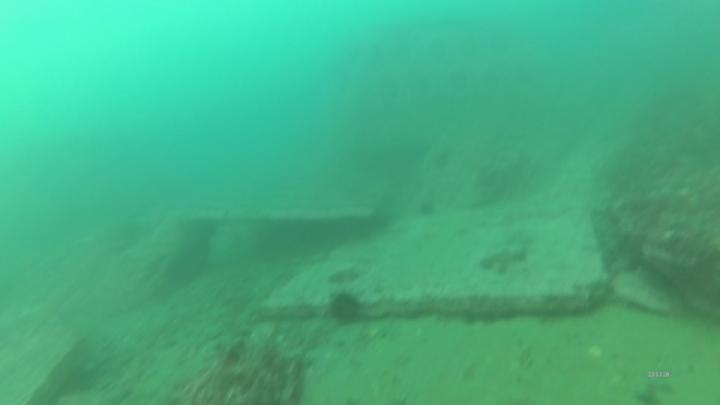echinus: (325, 286, 367, 330)
